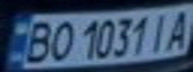0: (93, 16, 118, 60)
1: (75, 16, 100, 60), (130, 12, 154, 55)
3: (112, 15, 136, 57)
A: (160, 7, 193, 52)
B: (18, 18, 57, 64)
I: (148, 10, 175, 53)
O: (42, 18, 78, 62)
